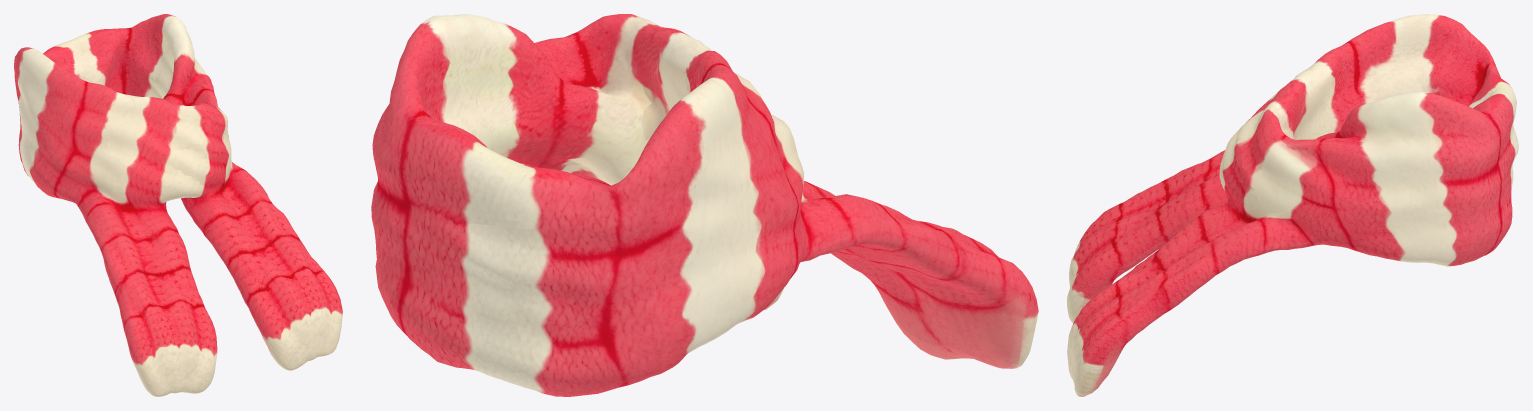
File: s1_gen_scarf.glb
3 views of the same model, side by side, from view 1: azimuth 30°, elevation 25°; view 2: azimuth 150°, elevation 25°; view 3: azimuth 270°, elevation 25° (orthographic). The views are drawn at different scales.
Bounding box in the file's own units: 1.24 × 1.4 × 1.9.
Materials: 1 (1 with a texture image).
